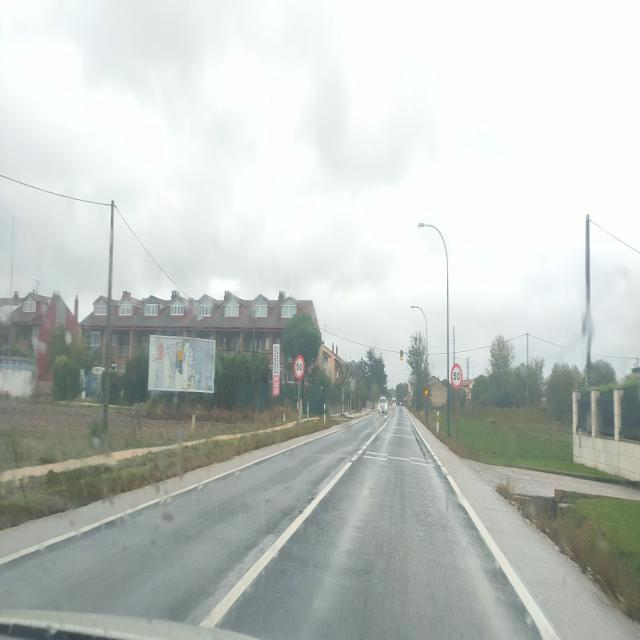Poth-hole: (289, 488, 316, 527)
